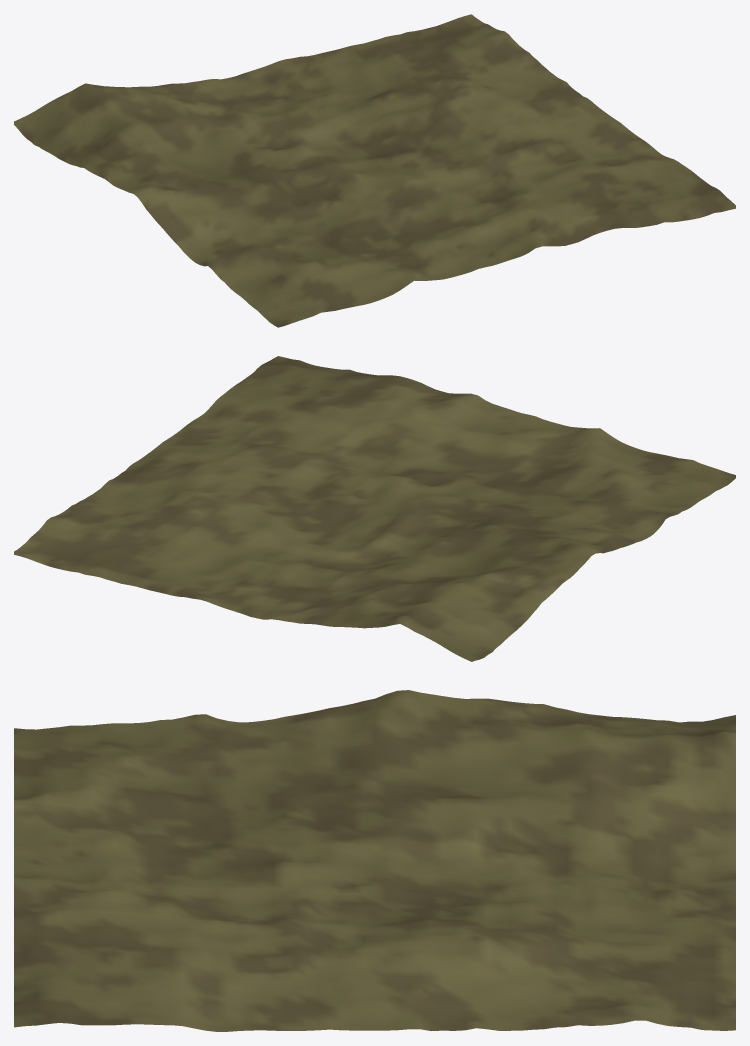
File: land_f_01_04.glb
The picture shows the model from 3 angles, top to bottom: view 1: azimuth 30°, elevation 25°; view 2: azimuth 150°, elevation 25°; view 3: azimuth 270°, elevation 25°; orthographic projection. The views are drawn at different scales.
Visible parts, largest first — view 1: land_f_01_04; view 2: land_f_01_04; view 3: land_f_01_04.
Part boxes in pixels (x1=…): land_f_01_04: x1=14, y1=14, x2=735, y2=327; land_f_01_04: x1=14, y1=356, x2=735, y2=661; land_f_01_04: x1=14, y1=690, x2=735, y2=1031.
Size of the model in its own units: 3840 by 291 by 3840.
